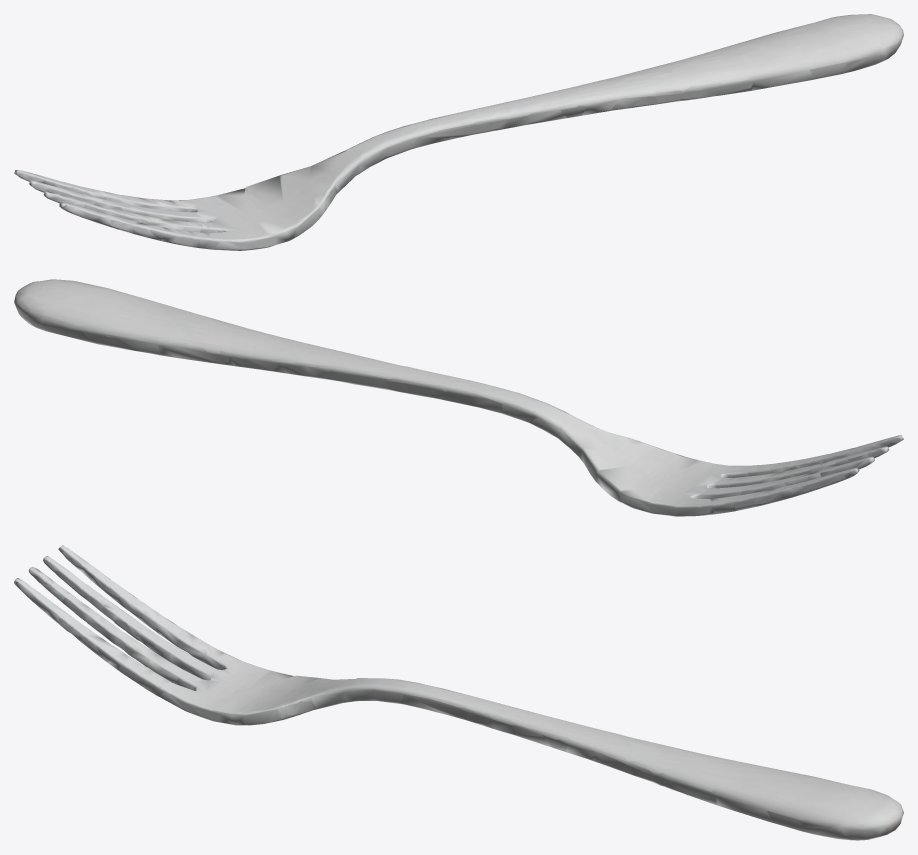
The model's file is upm_mv3pqehw65g.glb.
The picture shows the model from 3 angles, top to bottom: view 1: azimuth 30°, elevation 25°; view 2: azimuth 150°, elevation 25°; view 3: azimuth 330°, elevation 25°; orthographic projection.
Size of the model in its own units: 1.9 by 0.1907 by 0.2152.
Materials: 1 (1 with a texture image).
